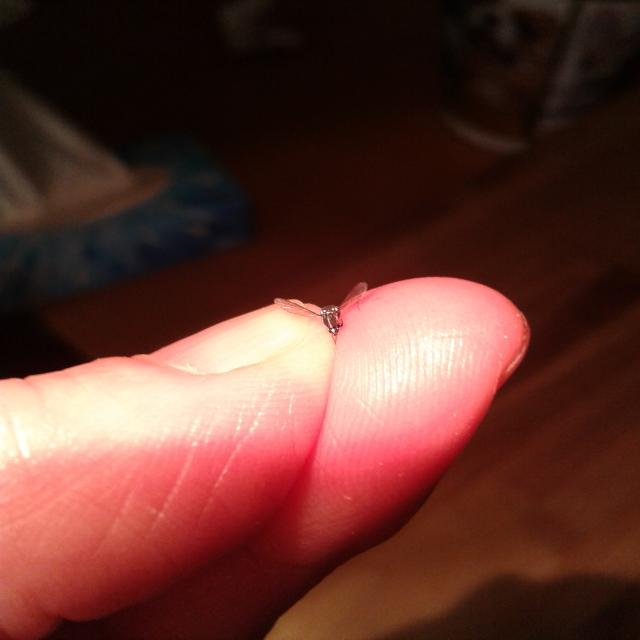albopictus: (262, 276, 391, 358)
